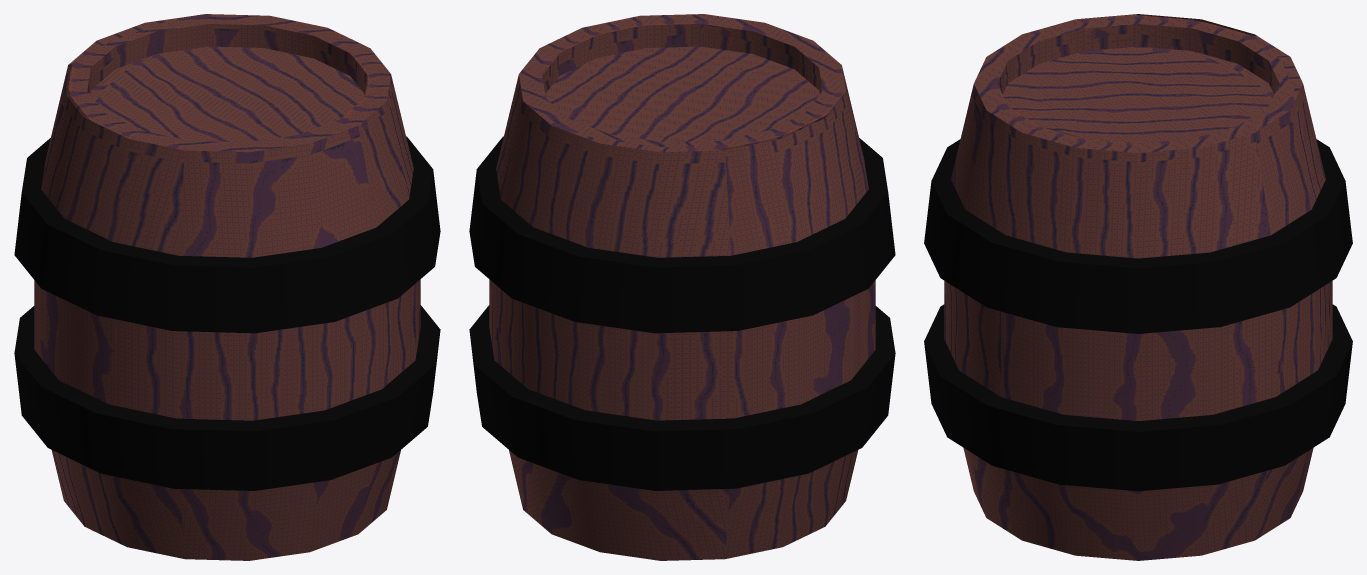
Rendered from Barrel.fbx.
3 renders of one model, left to right at view 1: azimuth 30°, elevation 25°; view 2: azimuth 150°, elevation 25°; view 3: azimuth 270°, elevation 25°, orthographic.
Parts seen in each view (by area): view 1: Circle; view 2: Circle; view 3: Circle.
Boxes of the visible parts, bbox=[...] form: Circle: bbox=[14, 14, 440, 560]; Circle: bbox=[469, 14, 895, 560]; Circle: bbox=[924, 14, 1352, 560].
Size of the model in its own units: 0.5588 by 0.5588 by 0.5862.
Materials: 2 (2 with a texture image).
